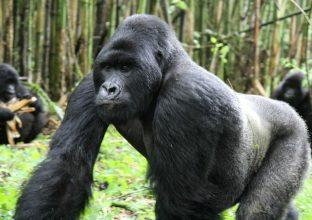goriile_montagne: (53, 1, 312, 216)
